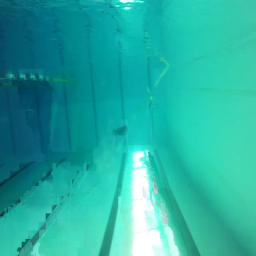Full: (112, 125, 128, 136), (149, 102, 158, 110)
